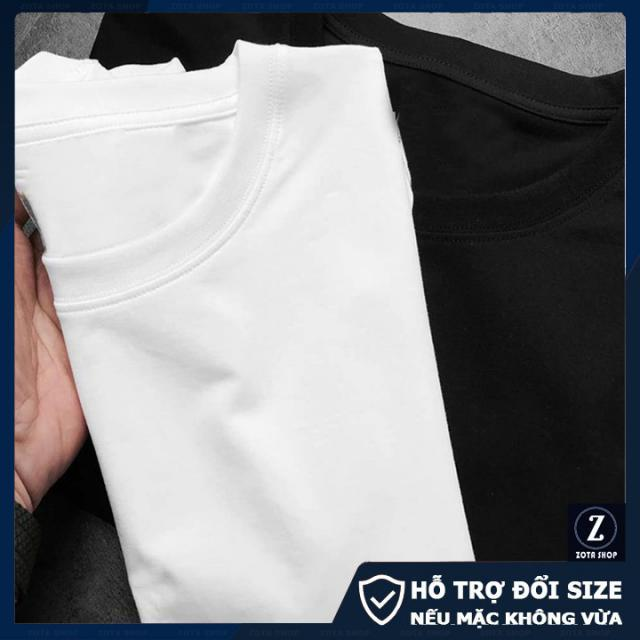Shirt: (0, 36, 487, 640)
